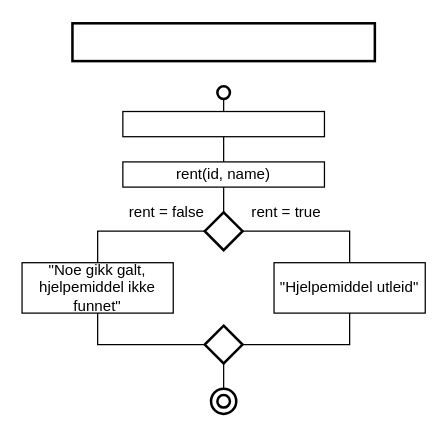
This 447x436 diagram has some shape labels left out. Here are the shapes that lost their labels. From the top down, the centre of each, then its label:
[223,41]: Menyvalg 4: Lei et Hjelpemiddel
[223,123]: Bruker innput
